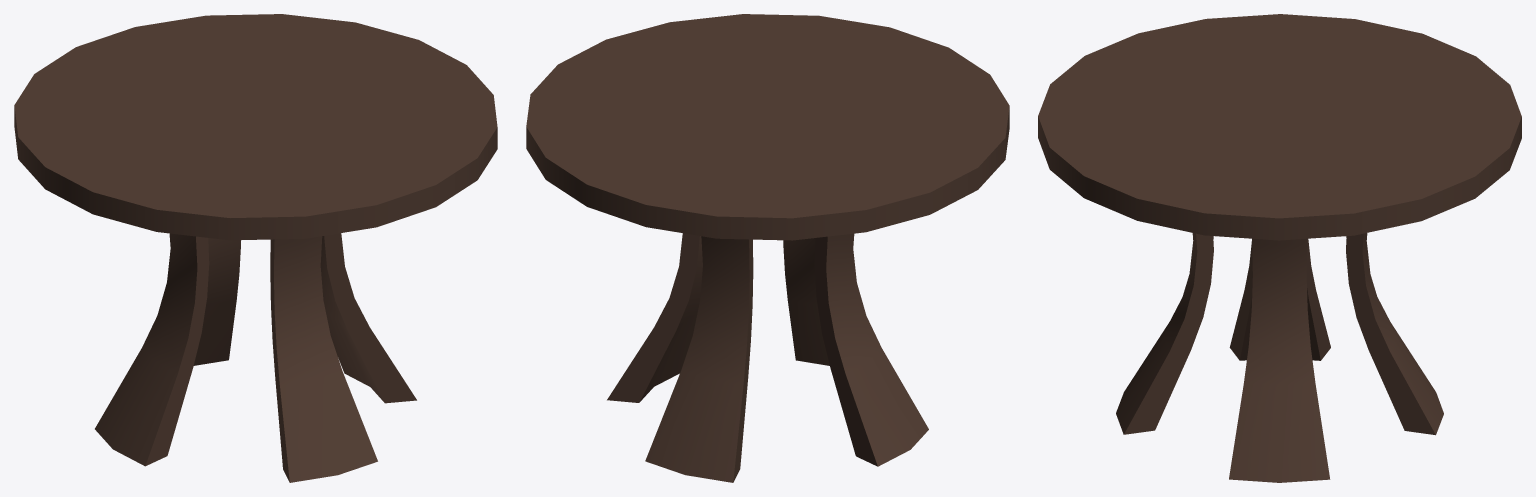
The model's file is Masa_Model.fbx.
3 views of the same model, side by side, from view 1: azimuth 30°, elevation 25°; view 2: azimuth 150°, elevation 25°; view 3: azimuth 270°, elevation 25° (orthographic).
Visible parts, largest first — view 1: pCylinder3; view 2: pCylinder3; view 3: pCylinder3.
Part boxes in pixels (x1,y1,x2,y2): pCylinder3: [14, 14, 497, 482]; pCylinder3: [526, 14, 1009, 482]; pCylinder3: [1038, 14, 1521, 482].
Size of the model in its own units: 13.24 by 8.98 by 13.24.
